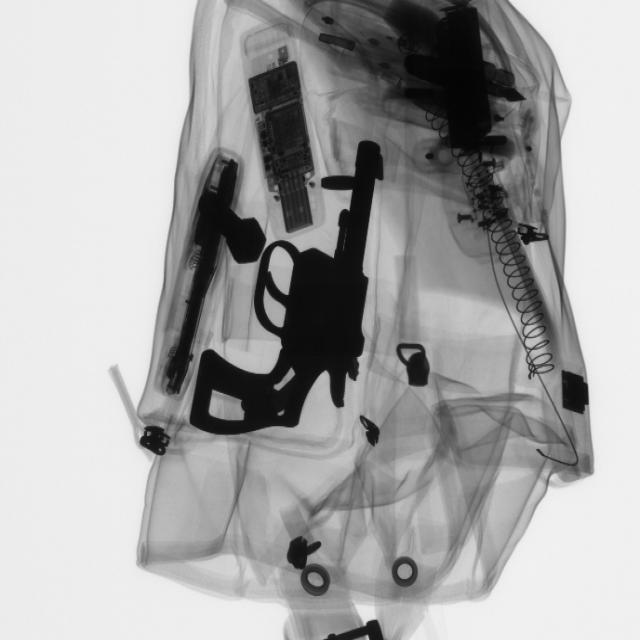GUN: (198, 129, 393, 436)
